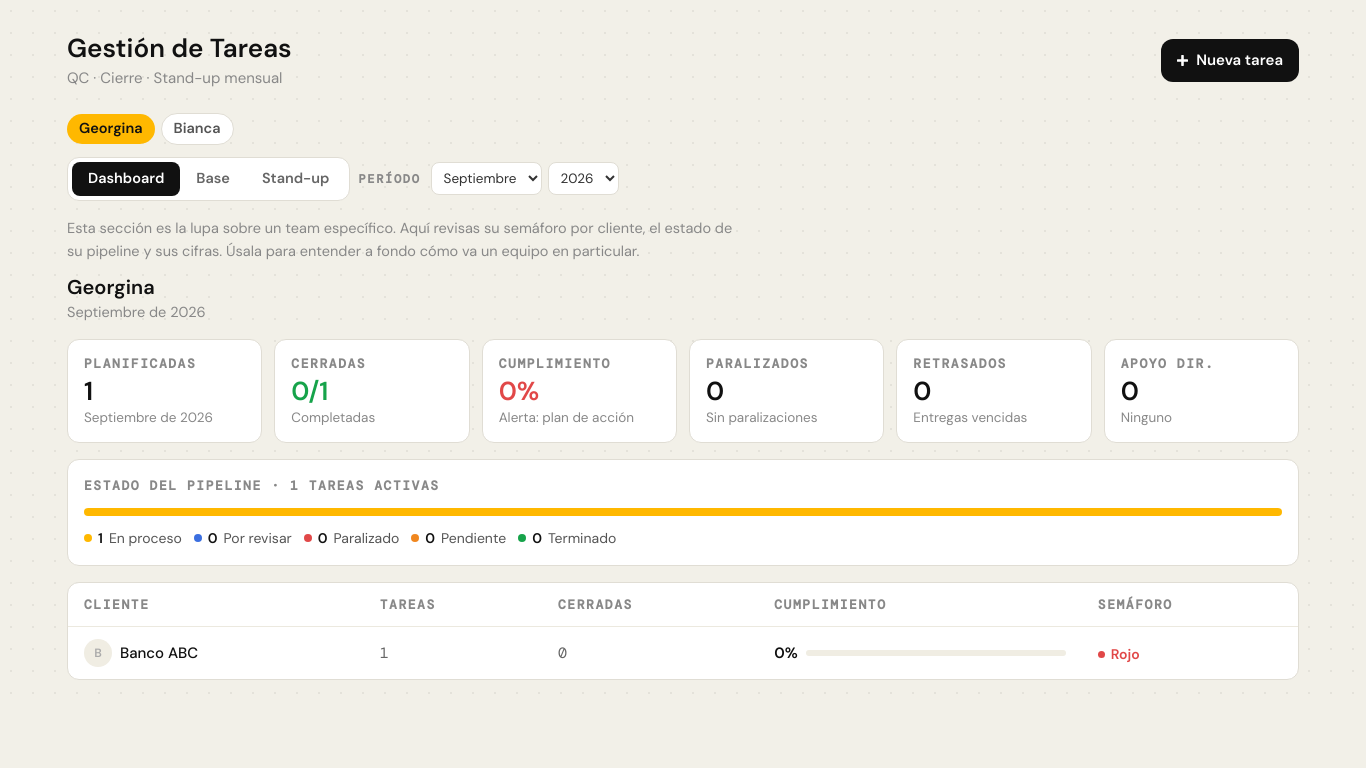
Test: TareasPage › shows the period selector on Dashboard/Base but not on Stand-up
Check: the button "Georgina" is shown, box [67,114,154,144]
Check: the text "Período" is shown, box [358,170,421,188]
Click the button "Base": (213, 179) [180,162,246,196]
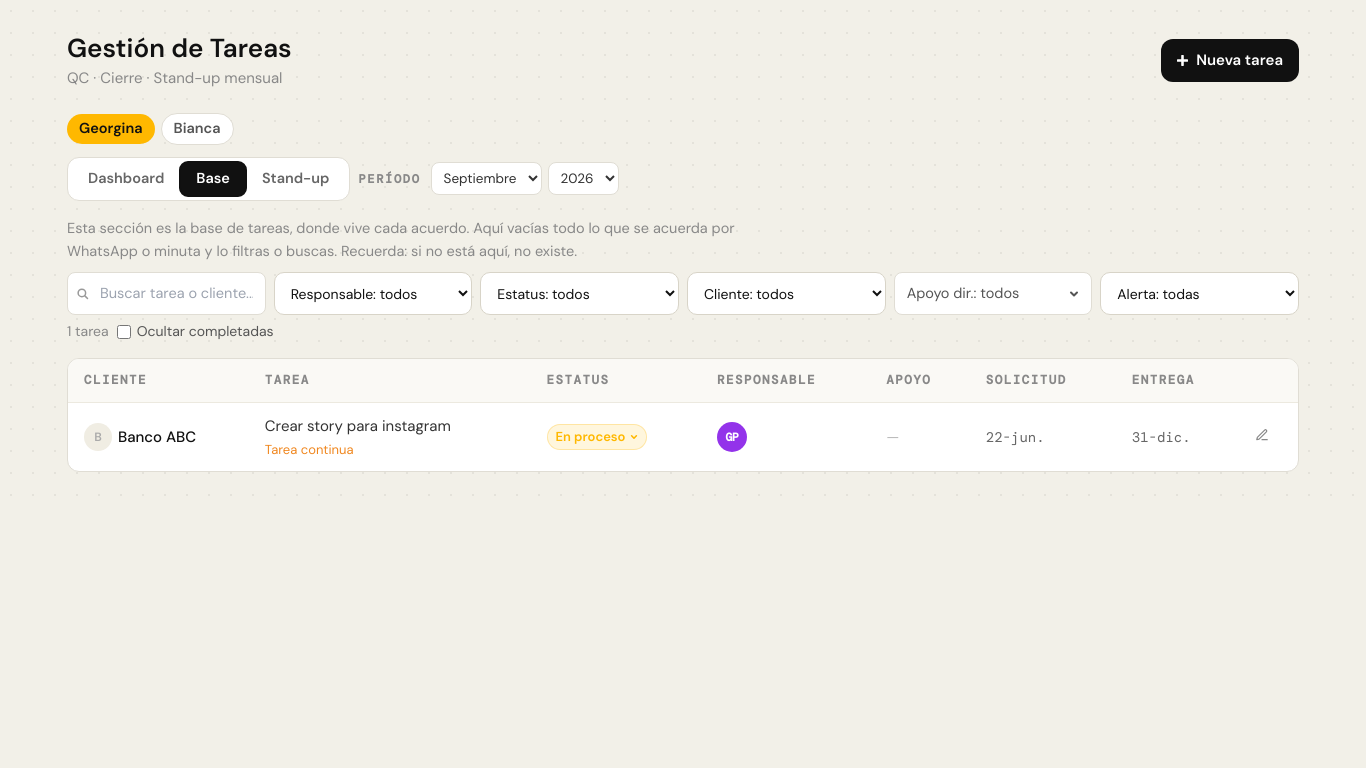
Check: the text "Período" is shown, box [358,170,421,188]
Click the button "Stand-up": (296, 179) [246,162,345,196]
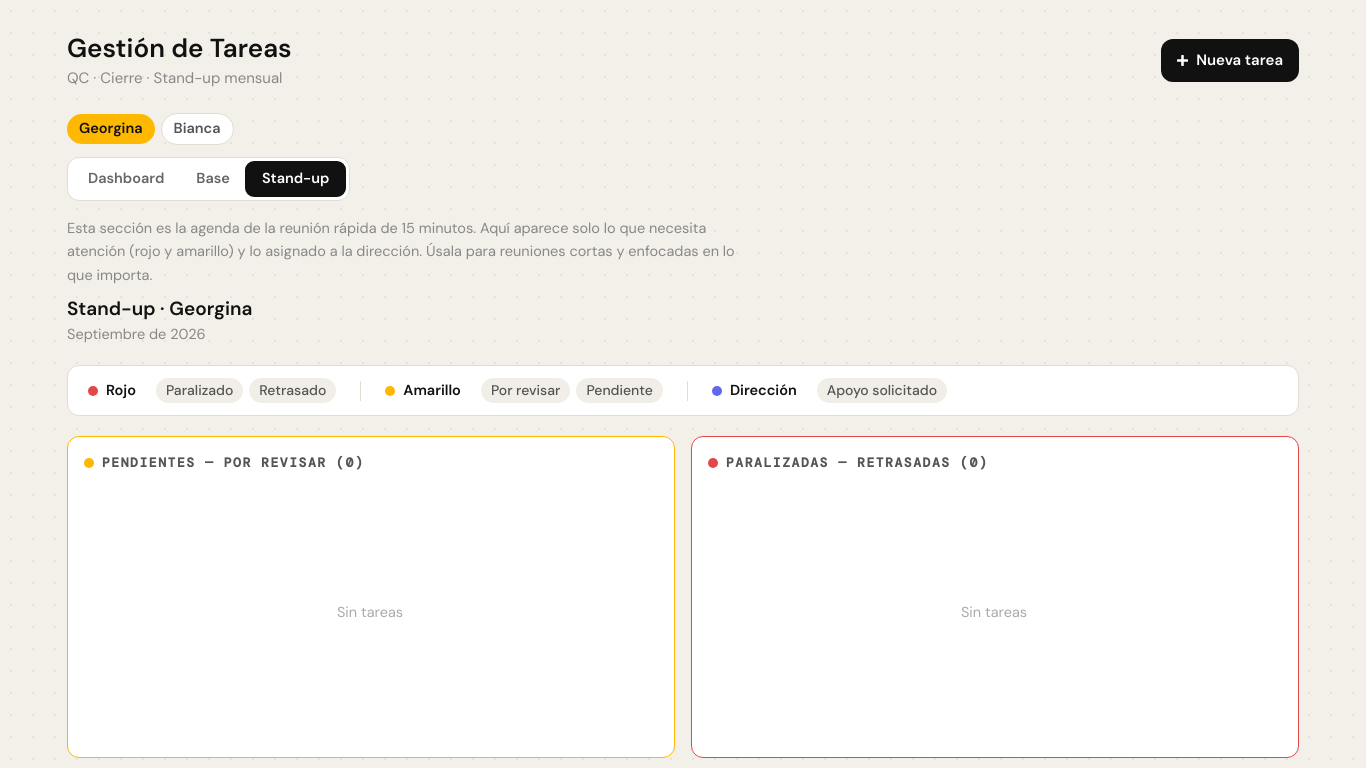
Check: the text "Período" is gone
